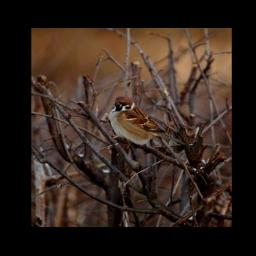Sparrow: (105, 95, 188, 149)
